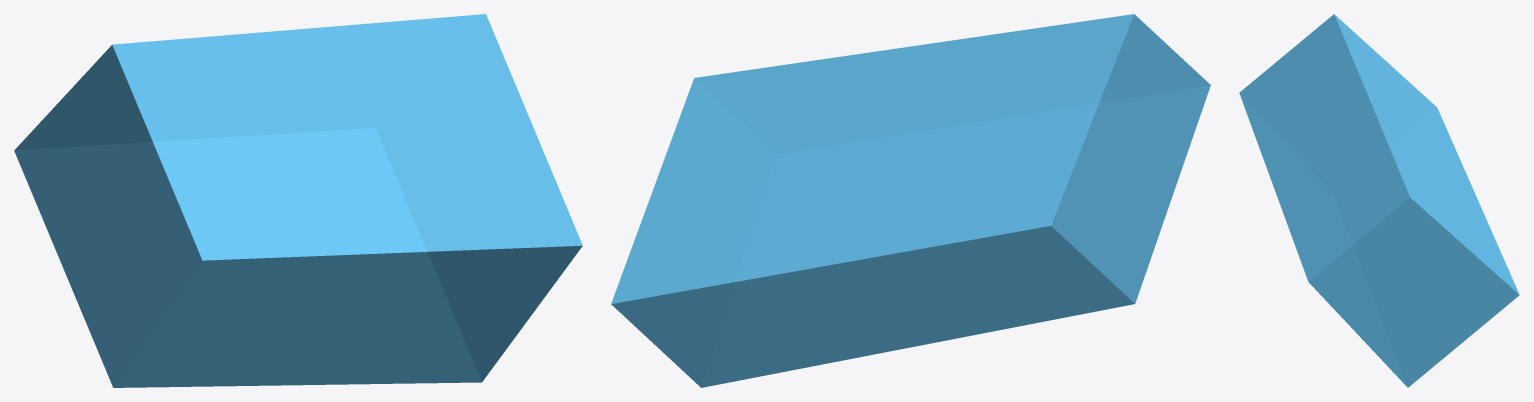
The model's file is Event_420604493_HErechit_37.fbx.
3 renders of one model, left to right at view 1: azimuth 30°, elevation 25°; view 2: azimuth 150°, elevation 25°; view 3: azimuth 270°, elevation 25°, orthographic. The views are drawn at different scales.
Visible parts, largest first — view 1: Model; view 2: Model; view 3: Model.
Part boxes in pixels (x1=…): Model: x1=14, y1=14, x2=582, y2=387; Model: x1=611, y1=14, x2=1210, y2=387; Model: x1=1239, y1=14, x2=1519, y2=387.
Size of the model in its own units: 0.8084 by 0.8598 by 0.8373.
